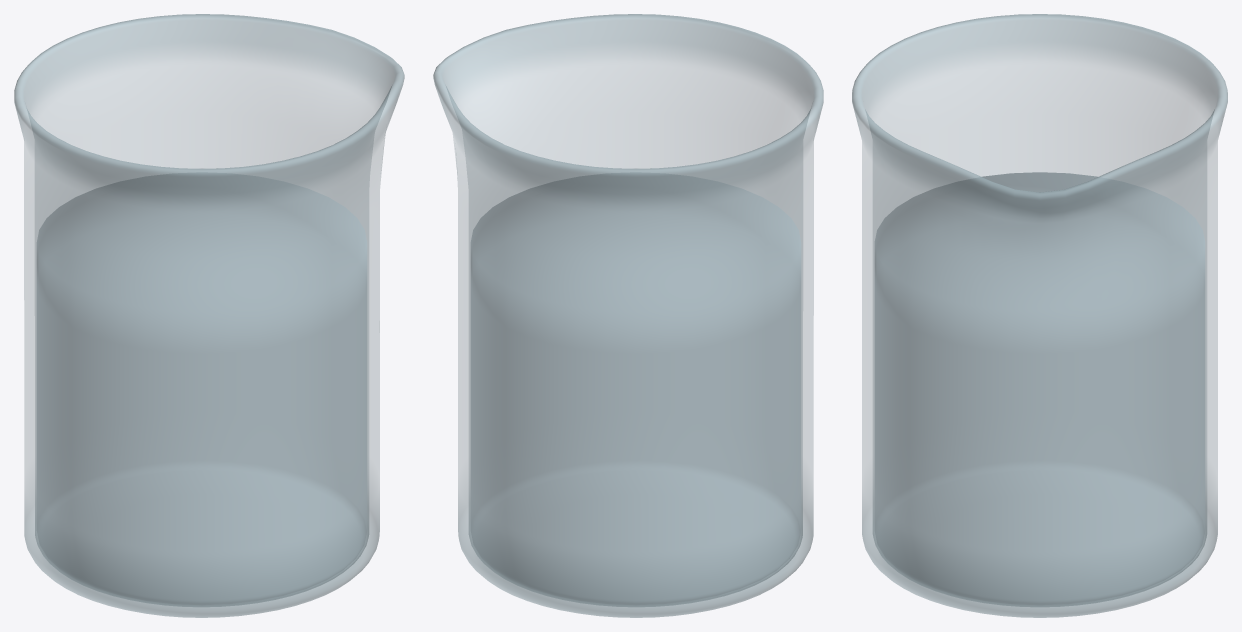
Rendered from beaker-100ml.glb.
The picture shows the model from 3 angles, left to right: view 1: azimuth 30°, elevation 25°; view 2: azimuth 150°, elevation 25°; view 3: azimuth 270°, elevation 25°; orthographic projection.
Parts seen in each view (by area): view 1: beaker-100ml-glass, beaker-100ml-inner; view 2: beaker-100ml-glass, beaker-100ml-inner; view 3: beaker-100ml-glass, beaker-100ml-inner.
Boxes of the visible parts, <box> form: beaker-100ml-glass: <box>14,14,404,617</box>; beaker-100ml-inner: <box>37,173,366,604</box>; beaker-100ml-glass: <box>433,14,823,617</box>; beaker-100ml-inner: <box>471,173,800,604</box>; beaker-100ml-glass: <box>852,14,1227,617</box>; beaker-100ml-inner: <box>875,172,1204,604</box>.
Size of what is drawn, in the model's own units: 5.73 by 7.09 by 5.27.
